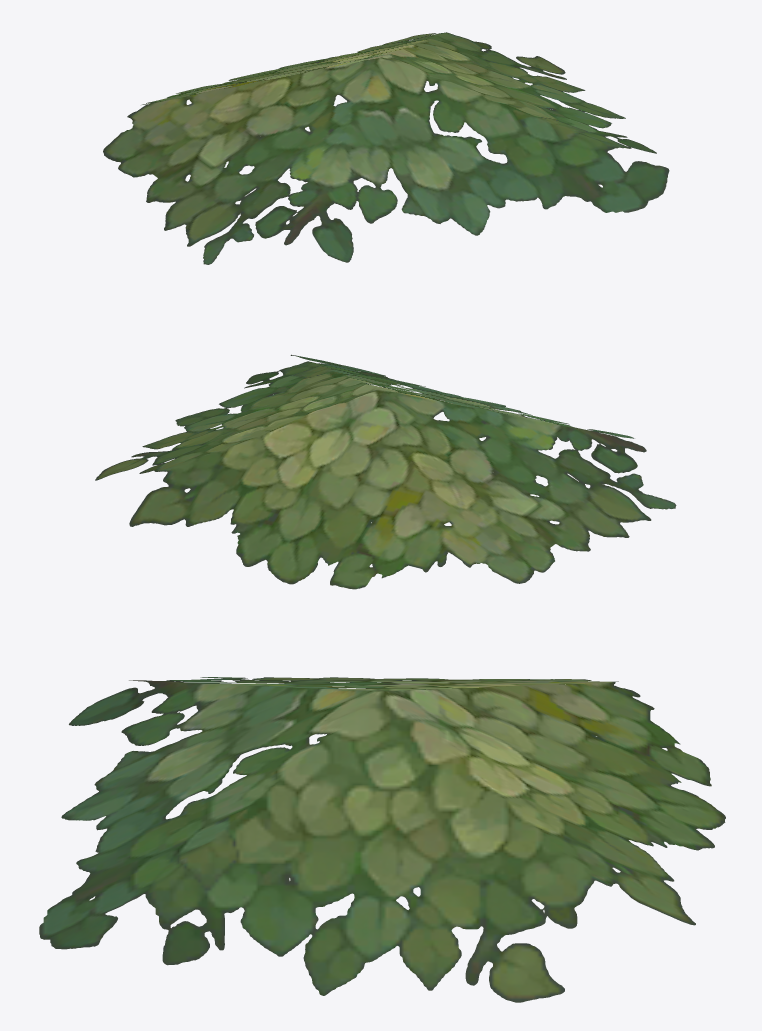
The model's file is Map_Choose_tree07.FBX.
The picture shows the model from 3 angles, top to bottom: view 1: azimuth 30°, elevation 25°; view 2: azimuth 150°, elevation 25°; view 3: azimuth 270°, elevation 25°; orthographic projection. The views are drawn at different scales.
Visible parts, largest first — view 1: Map_Choose_tree07; view 2: Map_Choose_tree07; view 3: Map_Choose_tree07.
Part boxes in pixels (box(x1,y1,x2,y2)): Map_Choose_tree07: box(103, 32, 669, 264); Map_Choose_tree07: box(95, 354, 676, 589); Map_Choose_tree07: box(39, 677, 725, 1002).
Size of the model in its own units: 56.82 by 12.1 by 51.81.
1 material, 1 textured.
